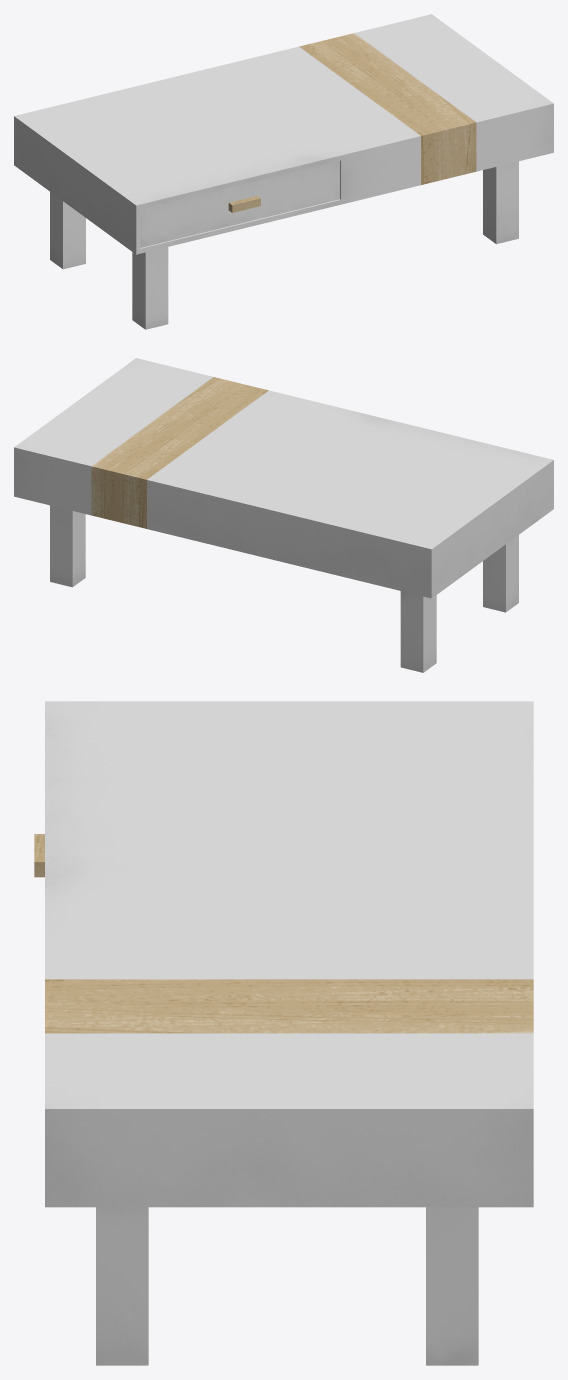
Rendered from Mesa_Cafe.fbx.
3 renders of one model, top to bottom at view 1: azimuth 30°, elevation 25°; view 2: azimuth 150°, elevation 25°; view 3: azimuth 270°, elevation 25°, orthographic. The views are drawn at different scales.
Parts seen in each view (by area): view 1: Cube, Cube.001, Cube.002, Cube.004; view 2: Cube, Cube.004, Cube.003, Cube.001; view 3: Cube, Cube.002, Cube.003.
Part boxes in pixels (bbox=[...]): Cube: bbox=[14, 14, 553, 254]; Cube.001: bbox=[132, 247, 168, 329]; Cube.002: bbox=[483, 161, 518, 244]; Cube.004: bbox=[50, 192, 85, 269]; Cube: bbox=[14, 358, 553, 598]; Cube.004: bbox=[400, 591, 436, 672]; Cube.003: bbox=[50, 505, 85, 587]; Cube.001: bbox=[483, 535, 518, 612]; Cube: bbox=[45, 701, 533, 1207]; Cube.002: bbox=[96, 1207, 148, 1365]; Cube.003: bbox=[426, 1207, 478, 1365].
Size of the model in its own units: 455 by 145 by 236.
Materials: 1 (1 with a texture image).
